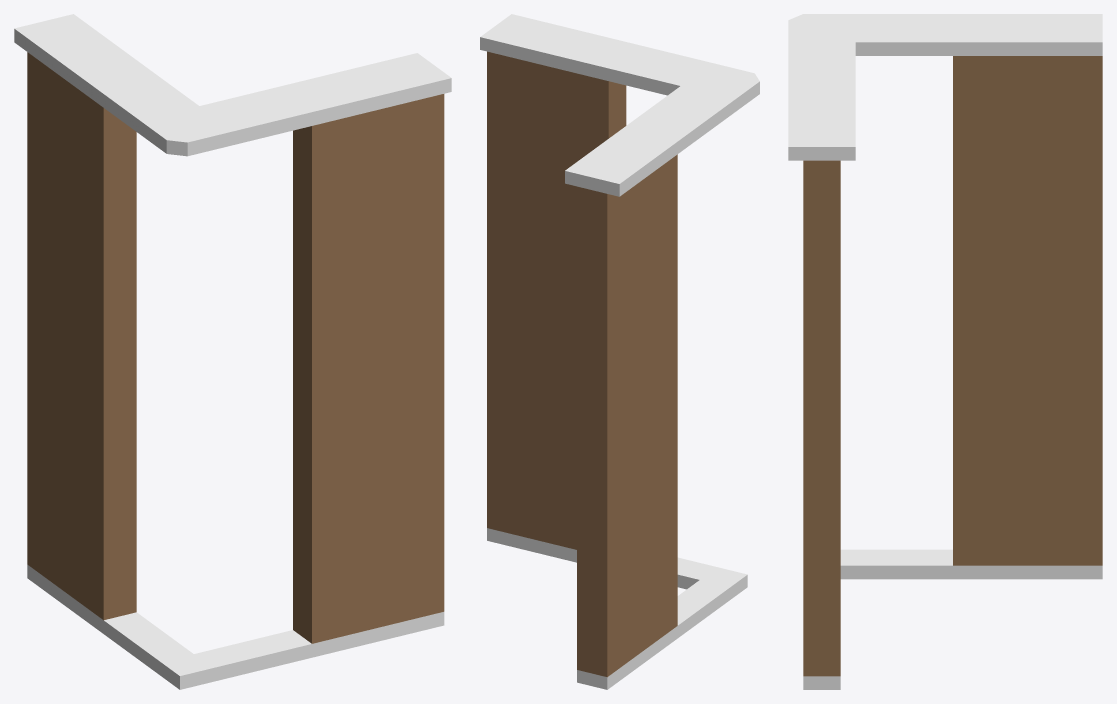
File: SM_4x4m_HighWindow_Corner.fbx
3 renders of one model, left to right at view 1: azimuth 30°, elevation 25°; view 2: azimuth 150°, elevation 25°; view 3: azimuth 270°, elevation 25°, orthographic. The views are drawn at different scales.
Visible parts, largest first — view 1: SM_4x4m_HighWindow_Corner.001; view 2: SM_4x4m_HighWindow_Corner.001; view 3: SM_4x4m_HighWindow_Corner.001.
Part boxes in pixels (x1=…): SM_4x4m_HighWindow_Corner.001: x1=14, y1=14, x2=451, y2=689; SM_4x4m_HighWindow_Corner.001: x1=480, y1=14, x2=759, y2=689; SM_4x4m_HighWindow_Corner.001: x1=788, y1=14, x2=1102, y2=689.
Size of the model in its own units: 210 by 210 by 400.
